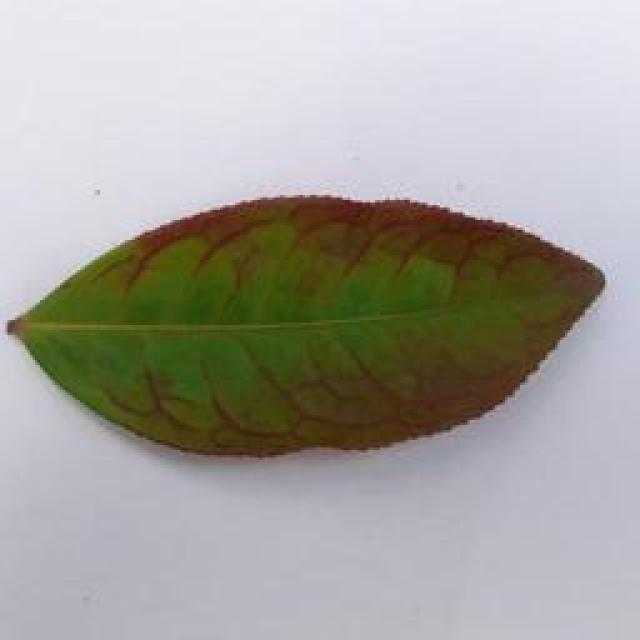Red Leaf Spot: (5, 182, 622, 474)
